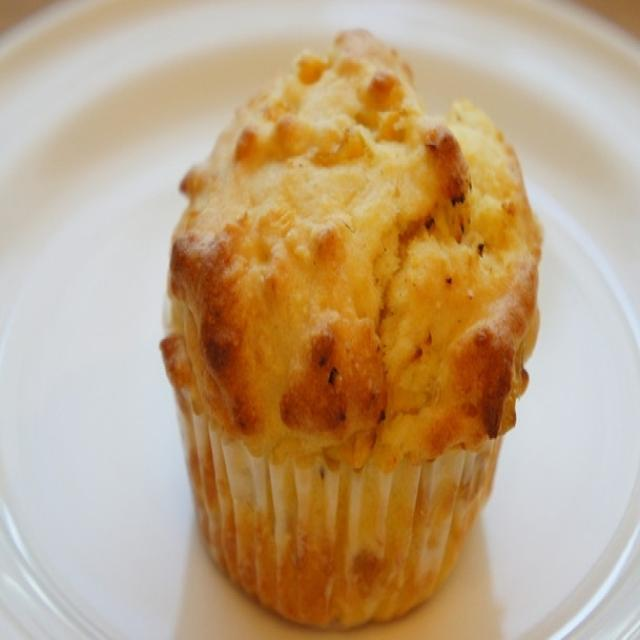炸货点心: (1, 8, 634, 630)
面包点心: (1, 8, 634, 630)
